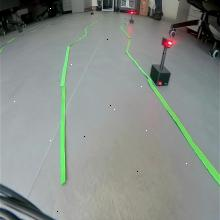red: (161, 36, 173, 49)
